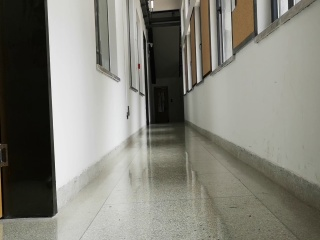room: (1, 3, 59, 220)
